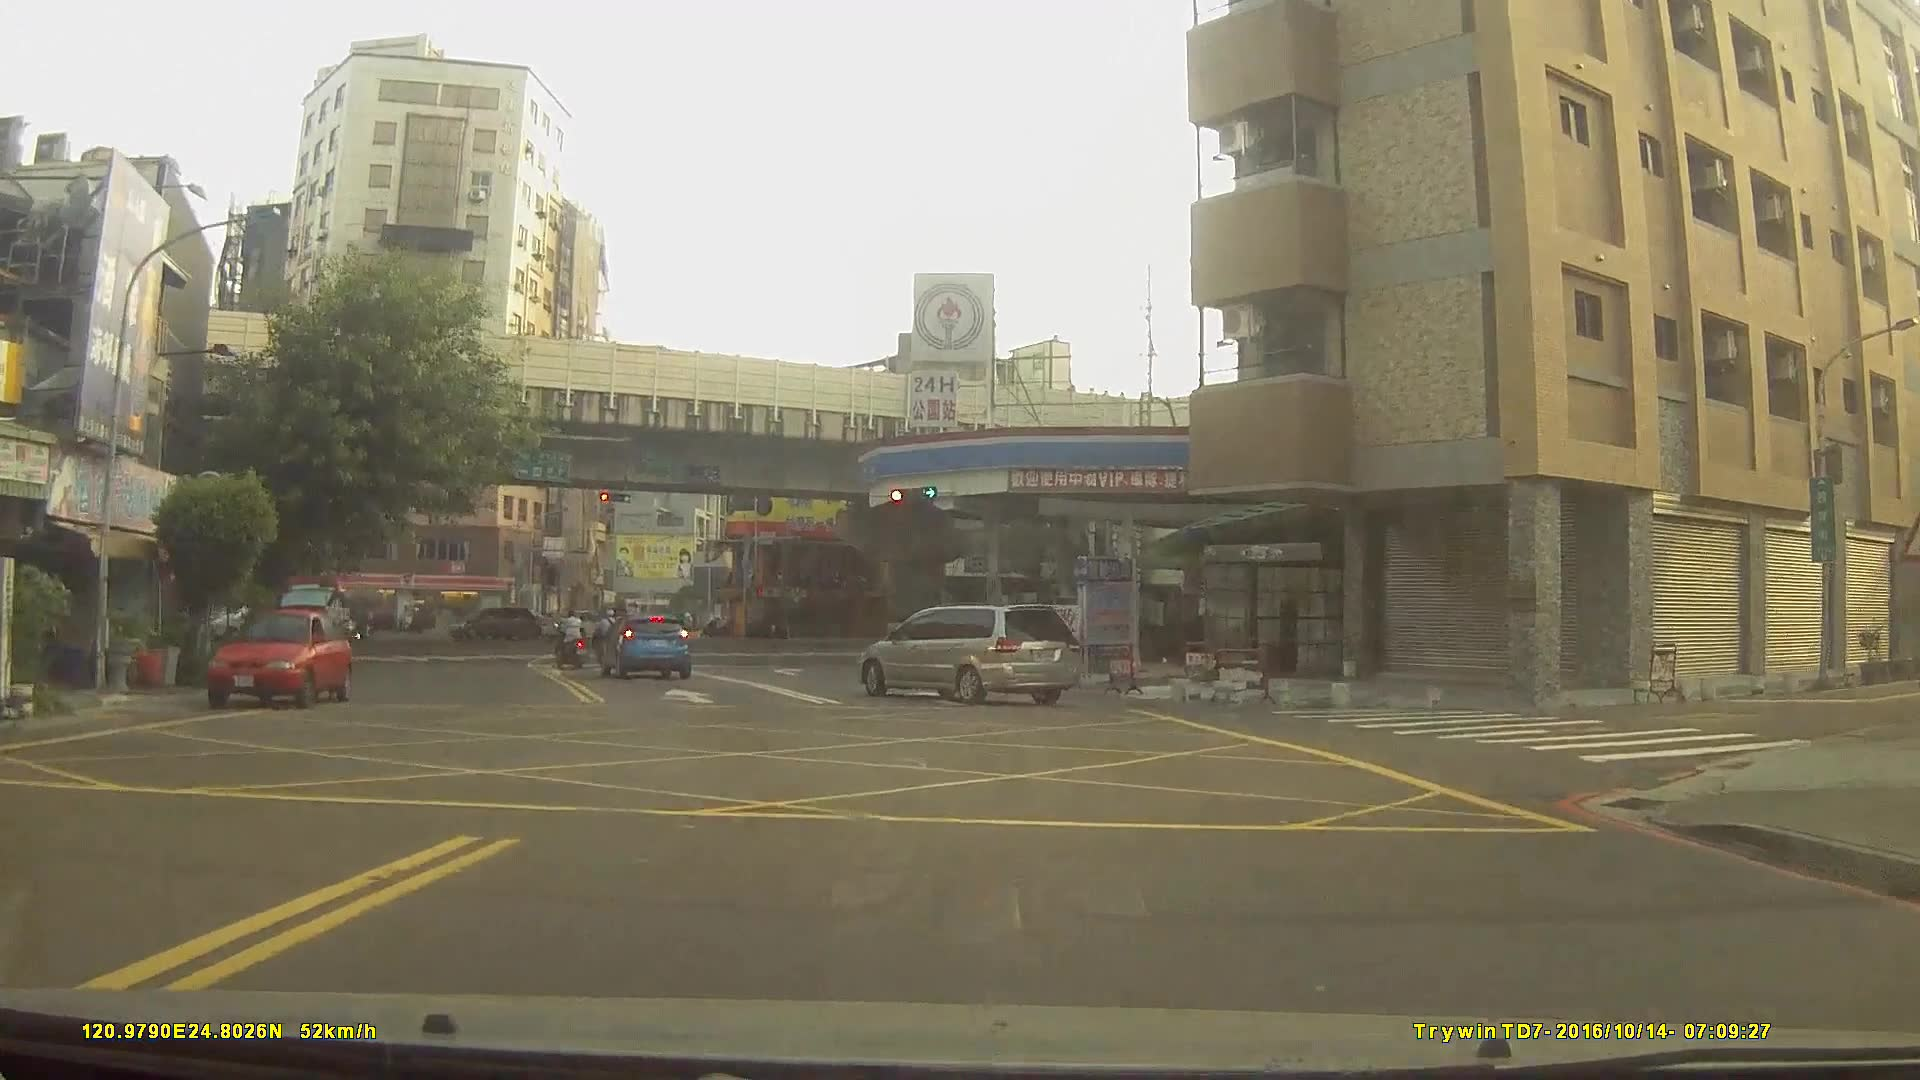rider: (552, 610, 585, 671)
vehicle: (858, 602, 1079, 703), (205, 605, 351, 709), (595, 609, 693, 677), (447, 607, 539, 643), (539, 604, 617, 637)
